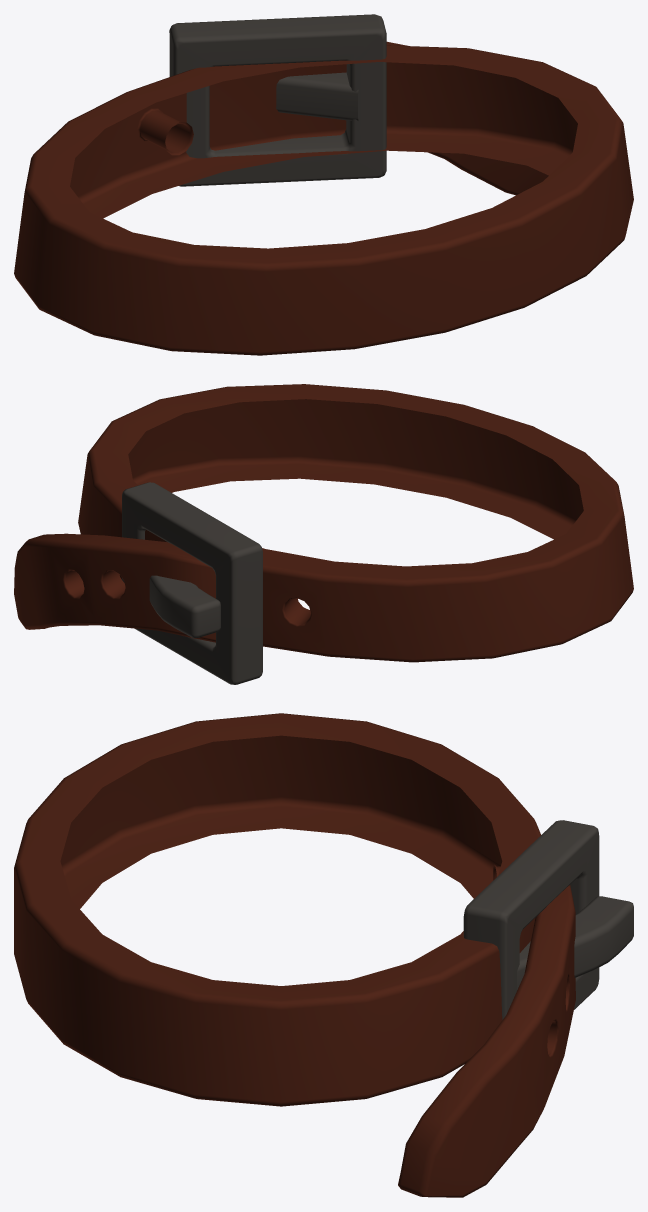
The model's file is Belt01.fbx.
3 views of the same model, one above another, from view 1: azimuth 30°, elevation 25°; view 2: azimuth 150°, elevation 25°; view 3: azimuth 270°, elevation 25° (orthographic). The views are drawn at different scales.
Visible parts, largest first — view 1: Belt01; view 2: Belt01; view 3: Belt01.
Boxes of the visible parts, left/top/right/bottom form: Belt01: left=14, top=14, right=633, bottom=355; Belt01: left=14, top=384, right=633, bottom=684; Belt01: left=14, top=713, right=633, bottom=1197.
Size of the model in its own units: 31.6 by 9.82 by 25.79.
